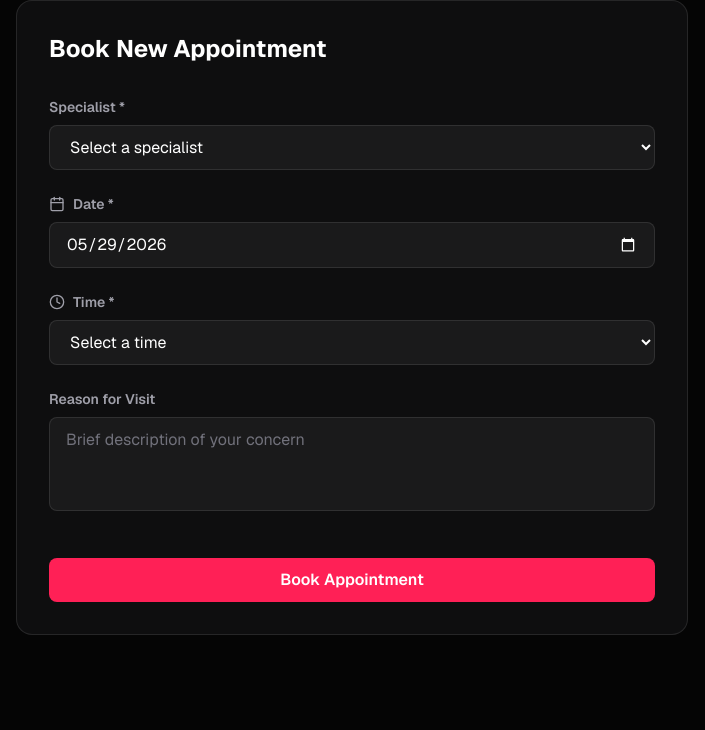
AppointmentForm › requires all required fields before submission
Click the button "Book Appointment" at (352, 580), box [49,558,655,602]
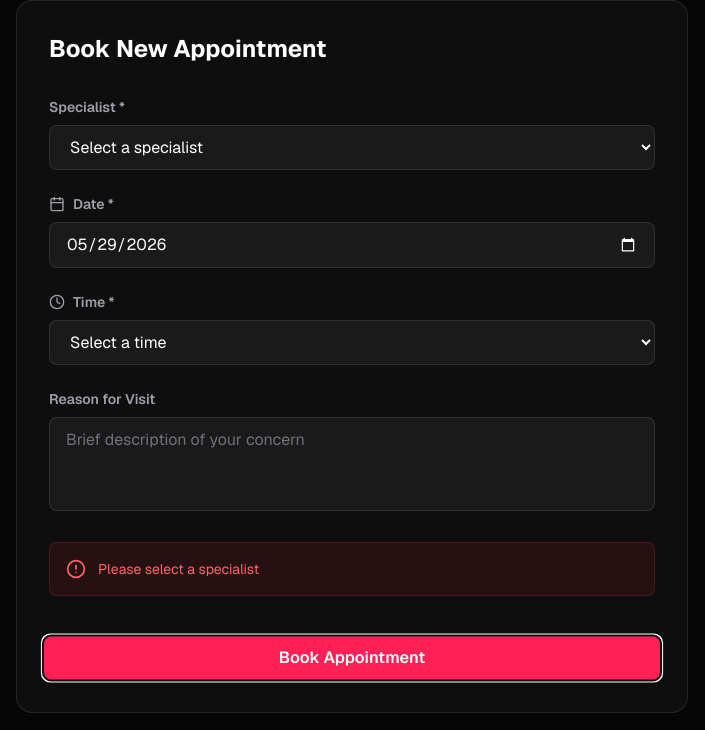
Check: the text "Please select a specialist" is shown, box [98,559,259,579]
